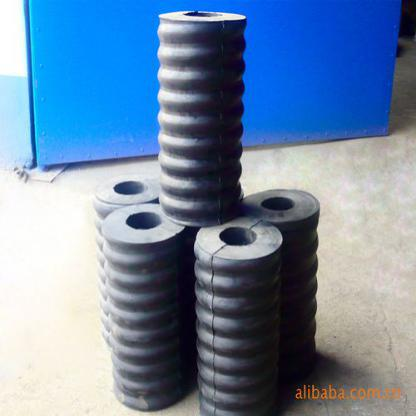FOD: (157, 8, 250, 229)
